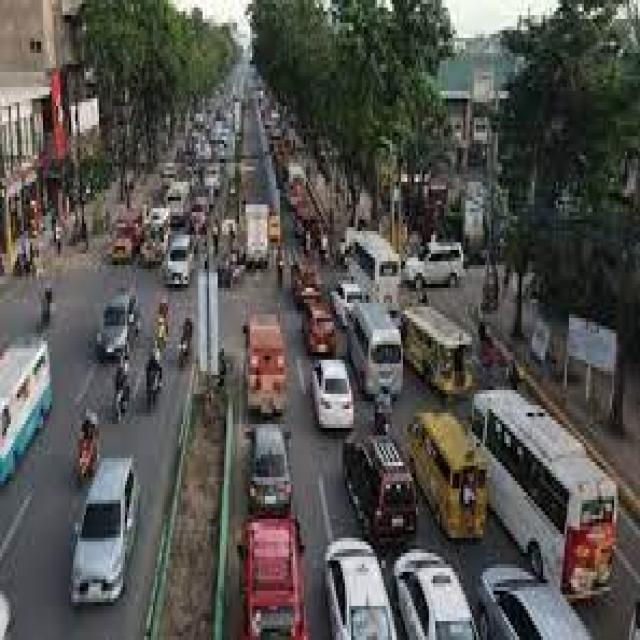bus: (472, 390, 616, 598), (412, 413, 485, 538), (0, 337, 50, 485), (403, 307, 470, 394), (349, 231, 399, 307)
car: (71, 458, 138, 602), (476, 564, 590, 640), (394, 549, 476, 640), (345, 436, 414, 542), (325, 542, 396, 640), (312, 360, 351, 428), (97, 292, 136, 356), (302, 299, 334, 356), (332, 280, 360, 326), (166, 235, 187, 284)
van: (349, 303, 399, 394)
